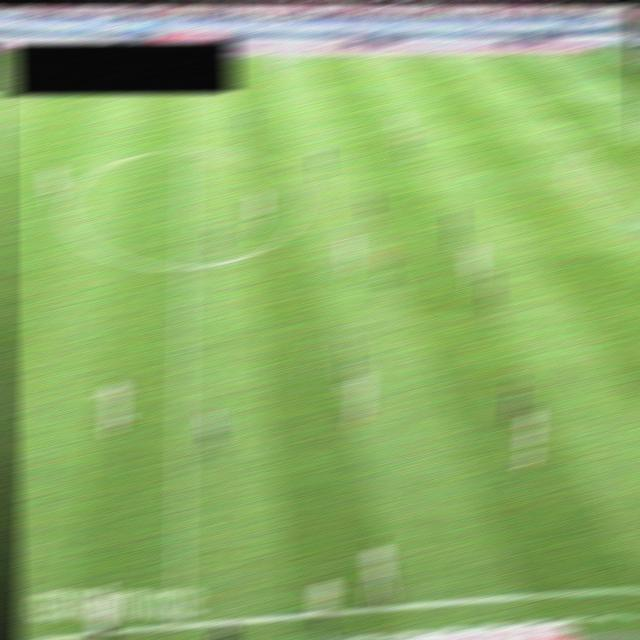bigarea_top_inner: (520, 94, 541, 104)
corner: (606, 47, 628, 60)
halfcircle_bottom: (172, 261, 196, 273)
halfcircle_top: (176, 144, 197, 154)
midline_bottom_intersection: (165, 617, 192, 633)
top_arc_area_intersection: (571, 147, 592, 157)
